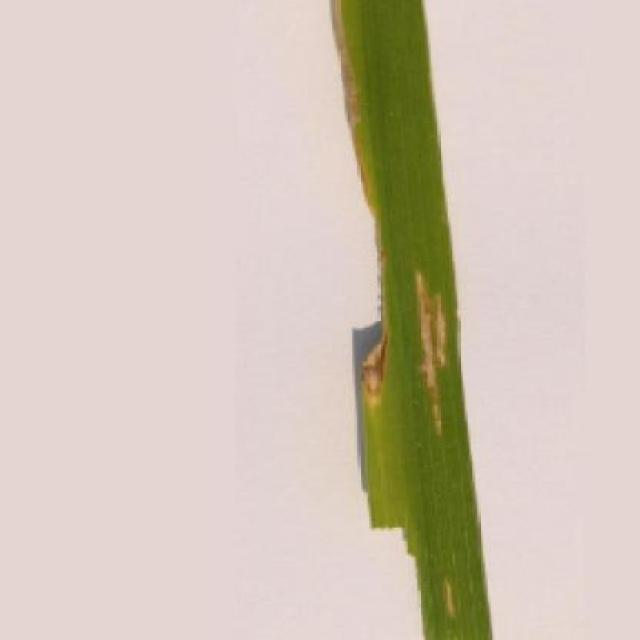Brown_Spot: (328, 0, 504, 640)
